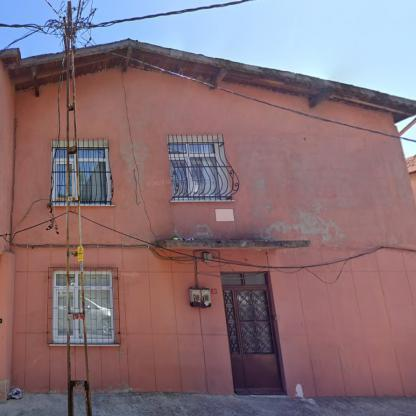door: (224, 286, 281, 392)
window: (56, 272, 112, 338), (54, 150, 105, 202), (170, 145, 219, 199), (221, 273, 266, 284)
